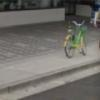bicycles: (62, 18, 90, 59)
